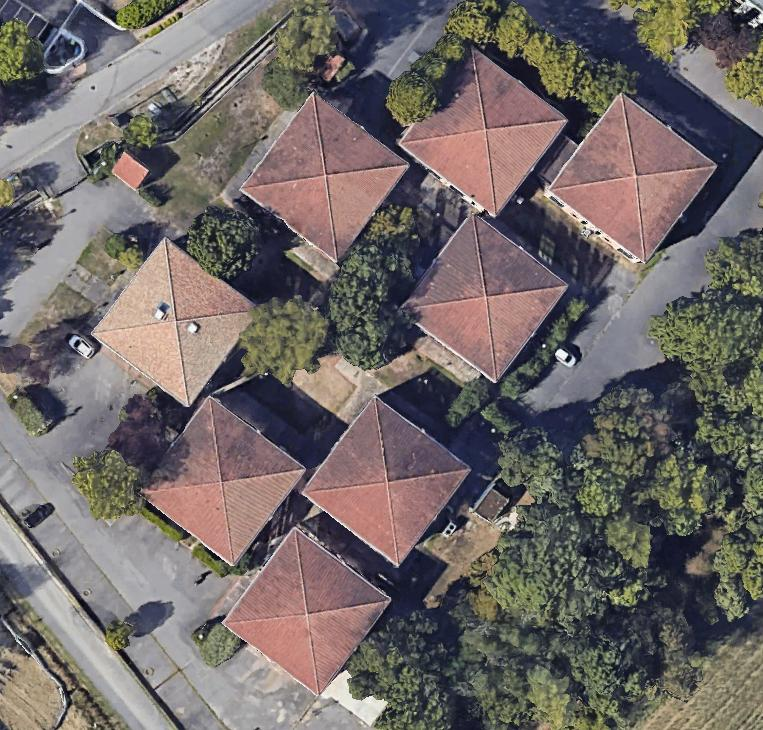maison: (543, 91, 720, 269), (133, 391, 310, 568), (395, 210, 570, 385), (395, 44, 570, 219), (88, 237, 261, 410), (239, 91, 410, 262), (301, 395, 472, 566), (221, 525, 391, 696)
